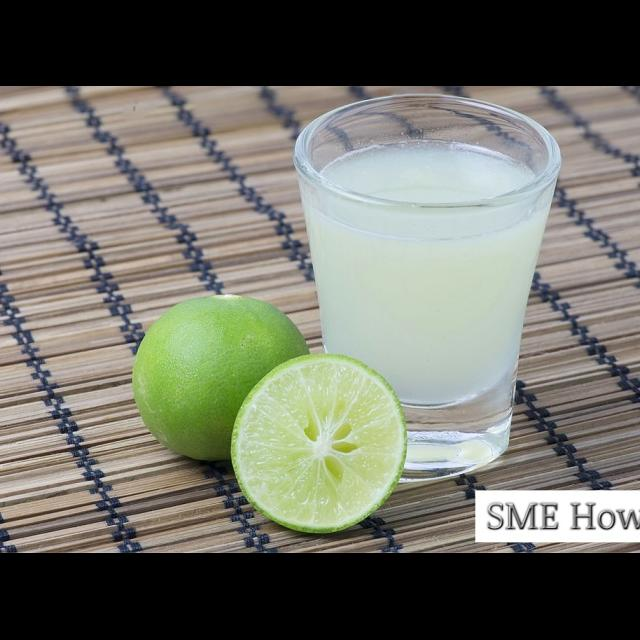lime: (129, 287, 317, 471)
